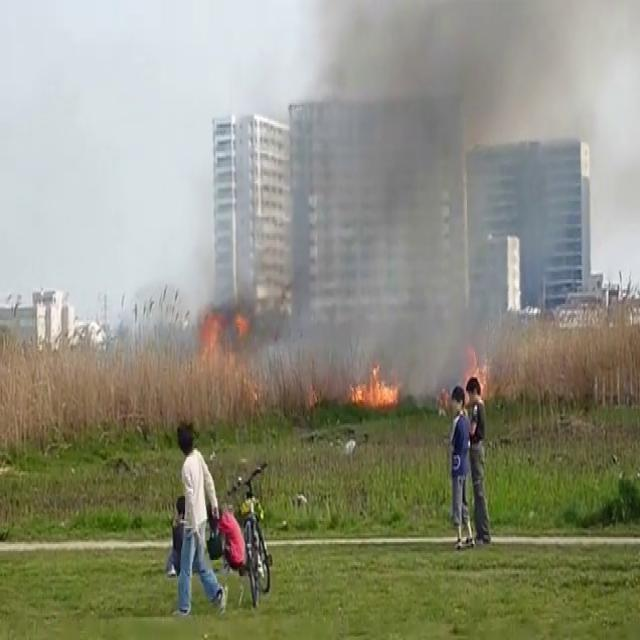Fire: (348, 356, 404, 418), (196, 310, 234, 371)
Smoke: (264, 0, 640, 379)
